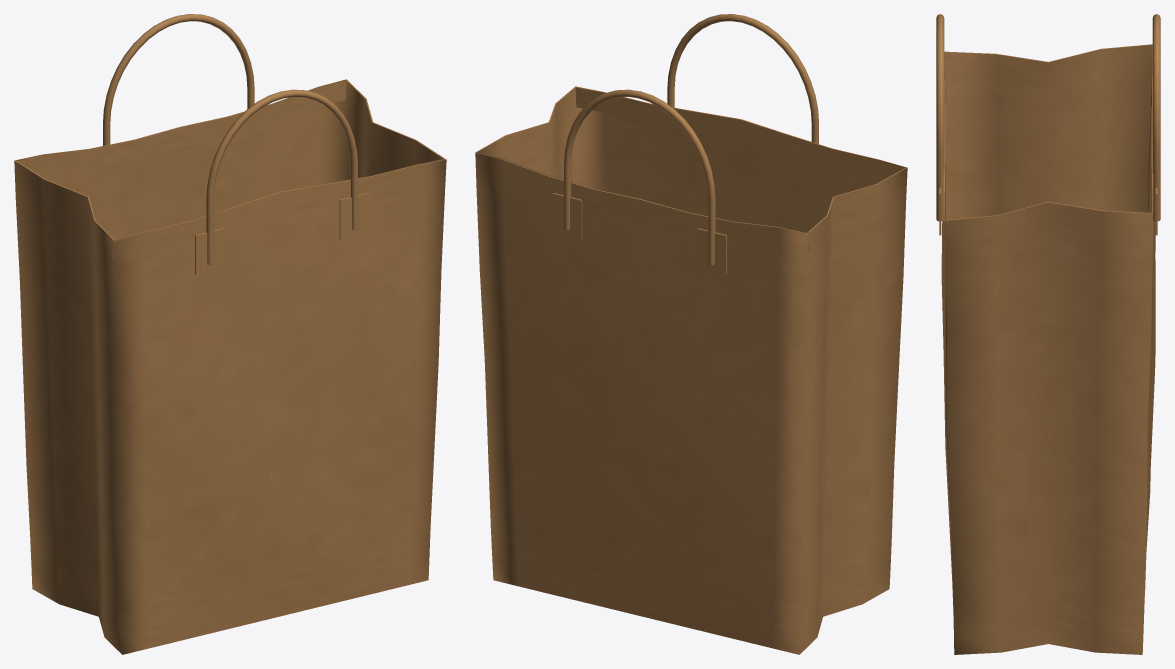
The model's file is Paper_Bag.fbx.
3 renders of one model, left to right at view 1: azimuth 30°, elevation 25°; view 2: azimuth 150°, elevation 25°; view 3: azimuth 270°, elevation 25°, orthographic. The views are drawn at different scales.
Parts seen in each view (by area): view 1: Paper_Bag; view 2: Paper_Bag; view 3: Paper_Bag.
Boxes of the visible parts, box(x1,y1,x2,y2) form: Paper_Bag: box(14, 14, 446, 654); Paper_Bag: box(475, 14, 907, 654); Paper_Bag: box(936, 14, 1160, 654).
Size of the model in its own units: 0.23 by 0.3513 by 0.1286.
4 materials, 4 textured.
